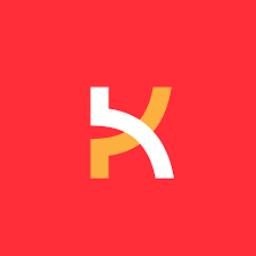k: (87, 84, 183, 188)
